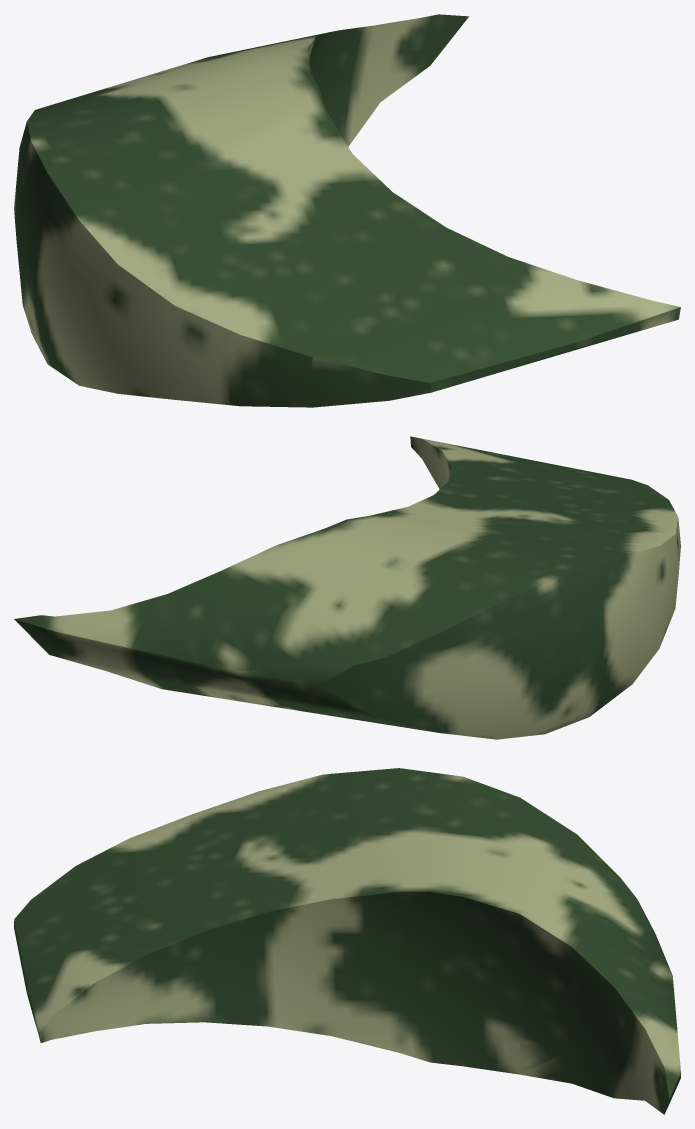
The model's file is link_body_29.obj.
3 views of the same model, one above another, from view 1: azimuth 30°, elevation 25°; view 2: azimuth 150°, elevation 25°; view 3: azimuth 270°, elevation 25° (orthographic). The views are drawn at different scales.
Parts seen in each view (by area): view 1: link_body_29; view 2: link_body_29; view 3: link_body_29.
Part boxes in pixels (bbox=[...]): link_body_29: bbox=[14, 14, 680, 407]; link_body_29: bbox=[14, 436, 680, 739]; link_body_29: bbox=[14, 768, 680, 1114].
Bounding box in the file's own units: 8.84 × 2.73 × 9.69.
